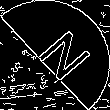N_SW: (22, 23, 88, 87)
